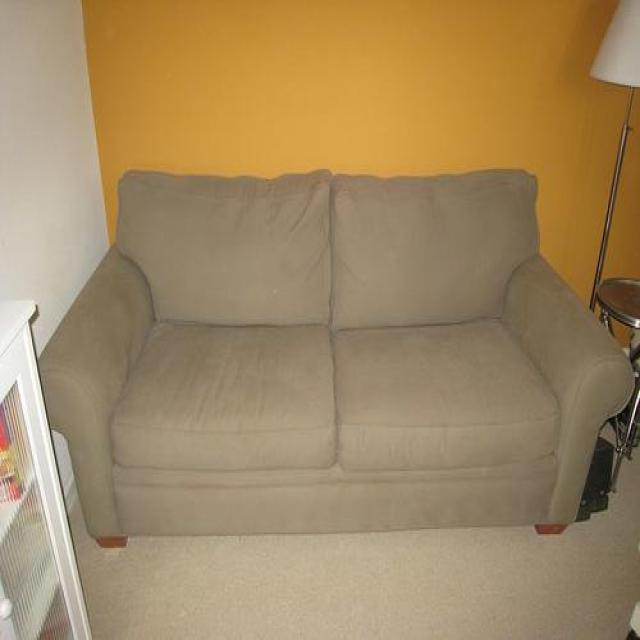sofa: (36, 167, 636, 548)
